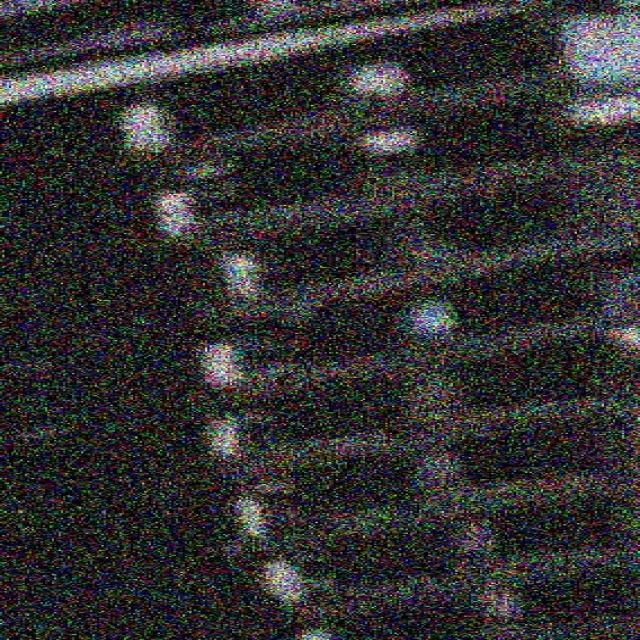igps: (0, 0, 640, 172), (119, 52, 640, 260), (160, 220, 640, 420), (173, 128, 640, 321), (160, 306, 640, 469), (181, 388, 640, 551), (200, 446, 640, 609), (259, 547, 640, 640)
